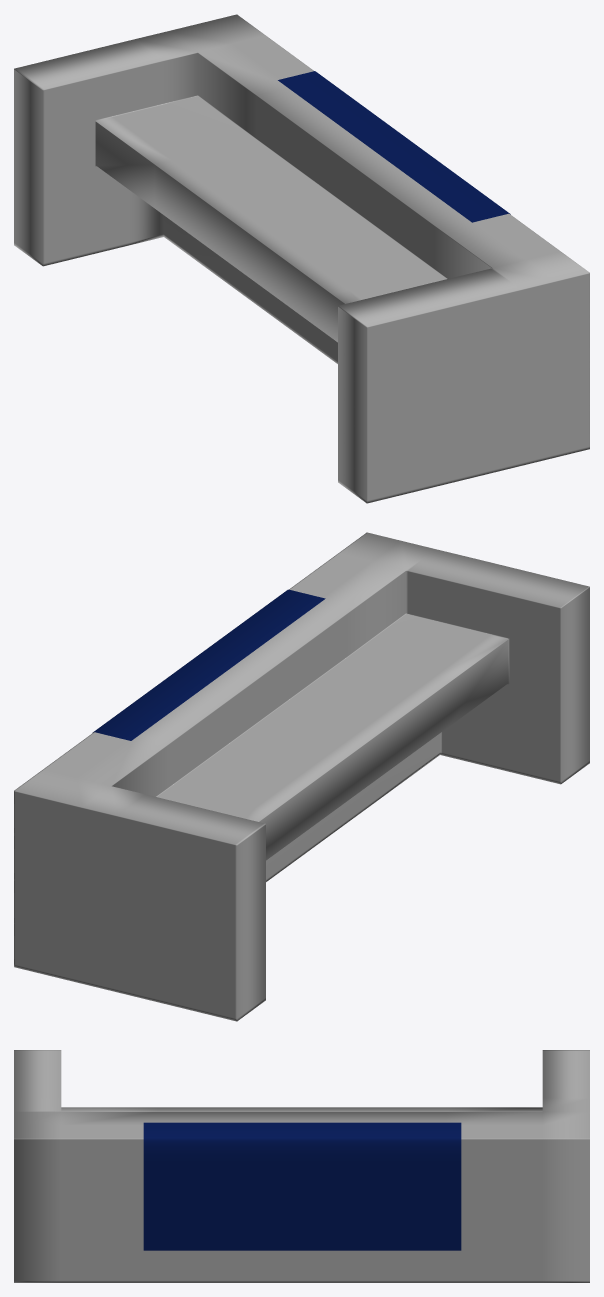
File: Lobby_Desk.fbx
3 renders of one model, top to bottom at view 1: azimuth 30°, elevation 25°; view 2: azimuth 150°, elevation 25°; view 3: azimuth 270°, elevation 25°, orthographic. The views are drawn at different scales.
Visible parts, largest first — view 1: Lobby_Desk_SM, Decoration_Part_SM; view 2: Lobby_Desk_SM, Decoration_Part_SM; view 3: Lobby_Desk_SM, Decoration_Part_SM.
Boxes of the visible parts, x1,y1,x2,y2 form: Lobby_Desk_SM: (14,14,589,503); Decoration_Part_SM: (278,71,510,222); Lobby_Desk_SM: (14,532,589,1021); Decoration_Part_SM: (92,589,325,740); Lobby_Desk_SM: (14,1050,589,1282); Decoration_Part_SM: (143,1122,461,1250).
Size of the model in its own units: 134 by 101 by 363.
